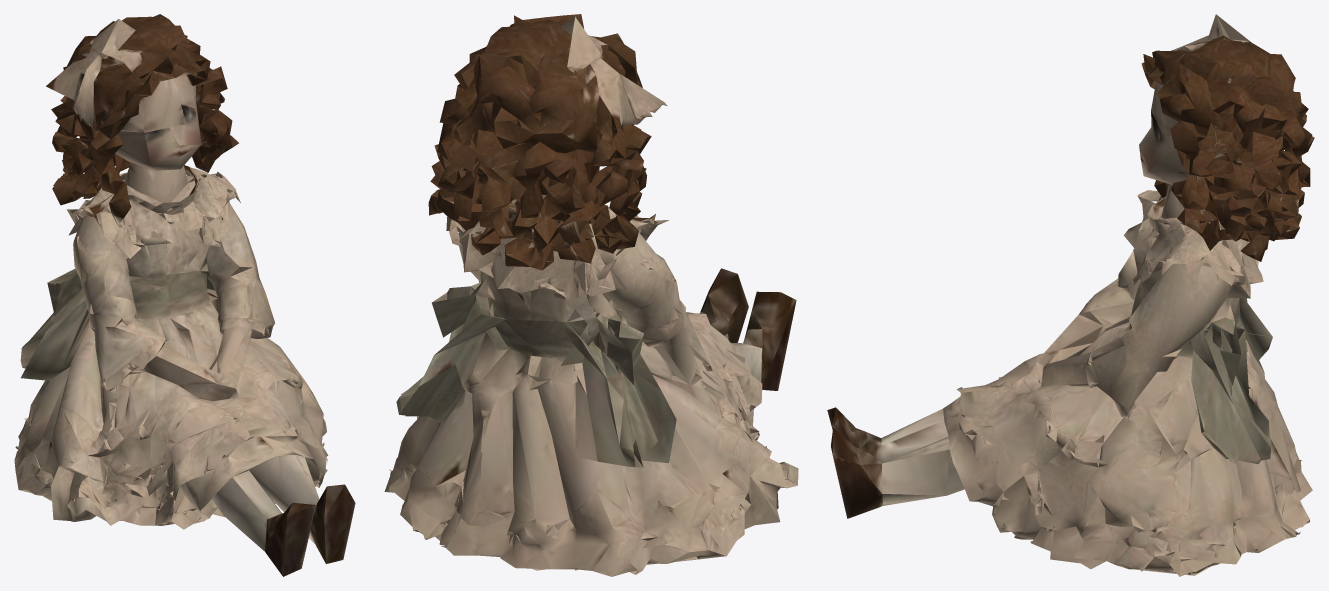
File: up_doll_lace.glb
3 views of the same model, side by side, from view 1: azimuth 30°, elevation 25°; view 2: azimuth 150°, elevation 25°; view 3: azimuth 270°, elevation 25° (orthographic). The views are drawn at different scales.
Parts seen in each view (by area): view 1: up_doll_lace; view 2: up_doll_lace; view 3: up_doll_lace.
Part boxes in pixels (left/top/right/bottom): up_doll_lace: left=14, top=14, right=355, bottom=576; up_doll_lace: left=384, top=14, right=798, bottom=576; up_doll_lace: left=827, top=14, right=1314, bottom=576.
Size of the model in its own units: 0.399 by 0.58 by 0.536.
Materials: 1 (1 with a texture image).
